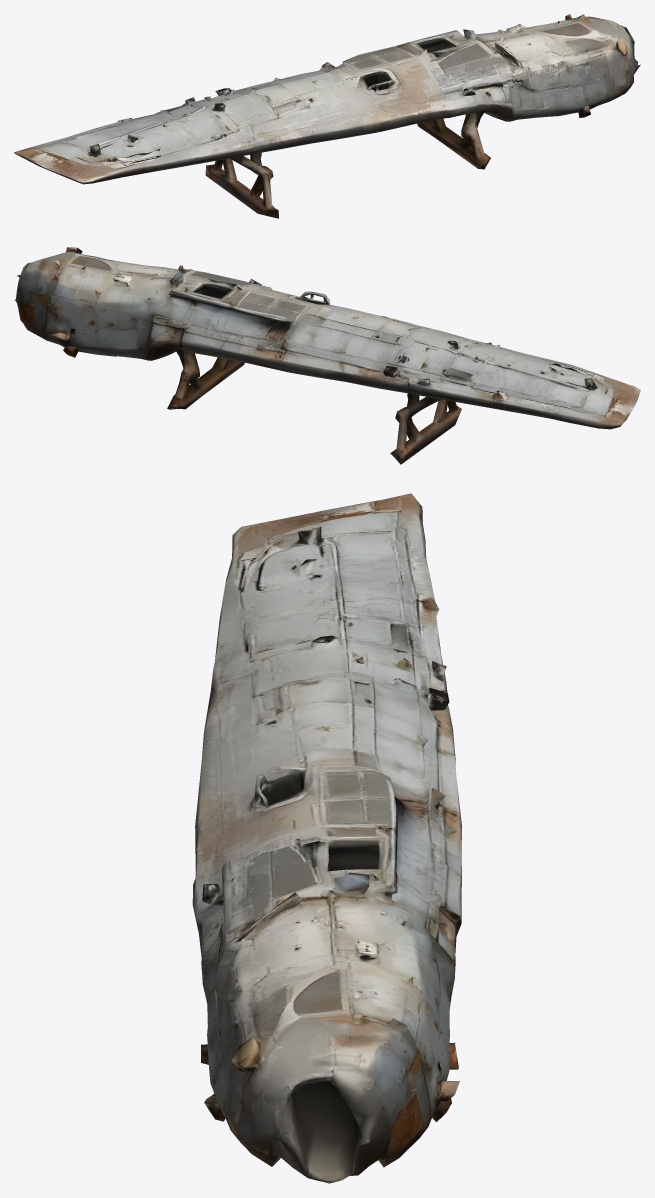
File: ap_wing.glb
3 renders of one model, top to bottom at view 1: azimuth 30°, elevation 25°; view 2: azimuth 150°, elevation 25°; view 3: azimuth 270°, elevation 25°, orthographic. The views are drawn at different scales.
Parts seen in each view (by area): view 1: tripo_node_da0f15c3-9999-4a8e-b7c5-9f3b890d9210; view 2: tripo_node_da0f15c3-9999-4a8e-b7c5-9f3b890d9210; view 3: tripo_node_da0f15c3-9999-4a8e-b7c5-9f3b890d9210.
Boxes of the visible parts, x1,y1,x2,y2 form: tripo_node_da0f15c3-9999-4a8e-b7c5-9f3b890d9210: (14, 14, 640, 218); tripo_node_da0f15c3-9999-4a8e-b7c5-9f3b890d9210: (14, 247, 640, 464); tripo_node_da0f15c3-9999-4a8e-b7c5-9f3b890d9210: (192, 493, 462, 1183).
Bounding box in the file's own units: 1 × 0.1699 × 0.1958.
1 material, 1 textured.
